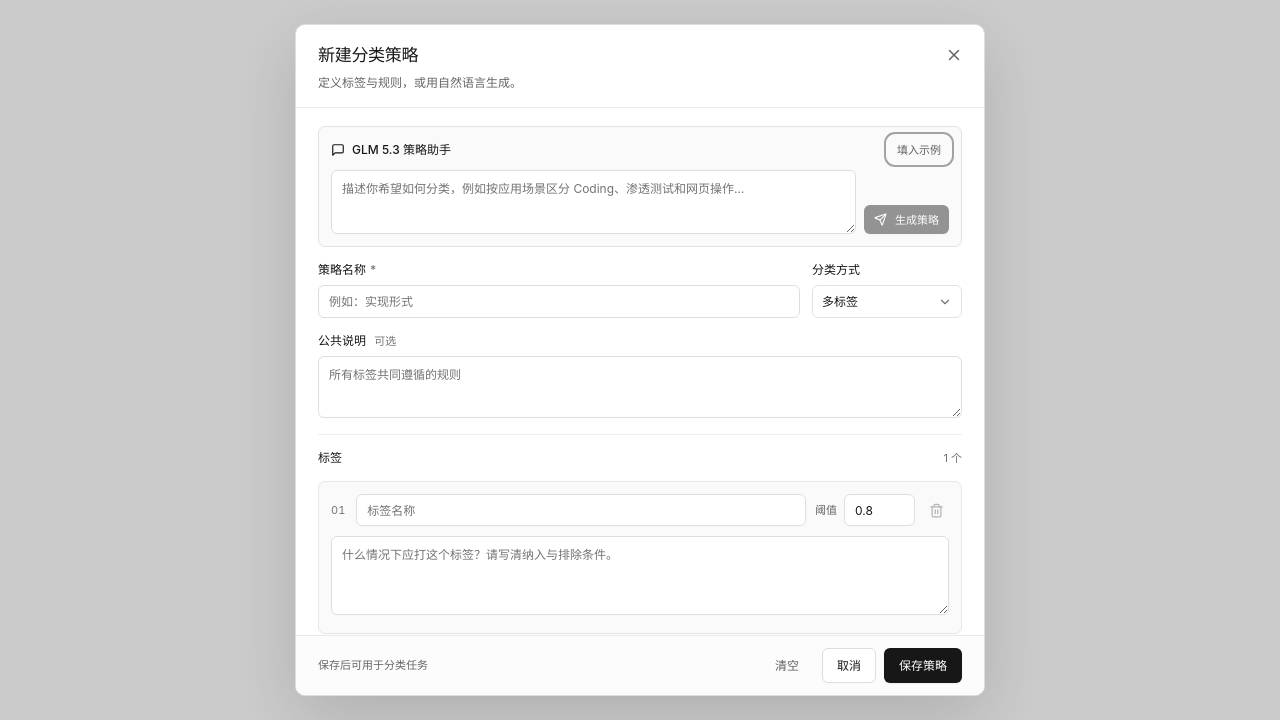
策略编辑 › 清空后忽略尚未返回的生成内容，失败也不覆盖已有草稿
Step 1. Type "生成用途分类" into the text box named "自然语言策略需求" → coordinates (594, 202), box [331,170,856,234]
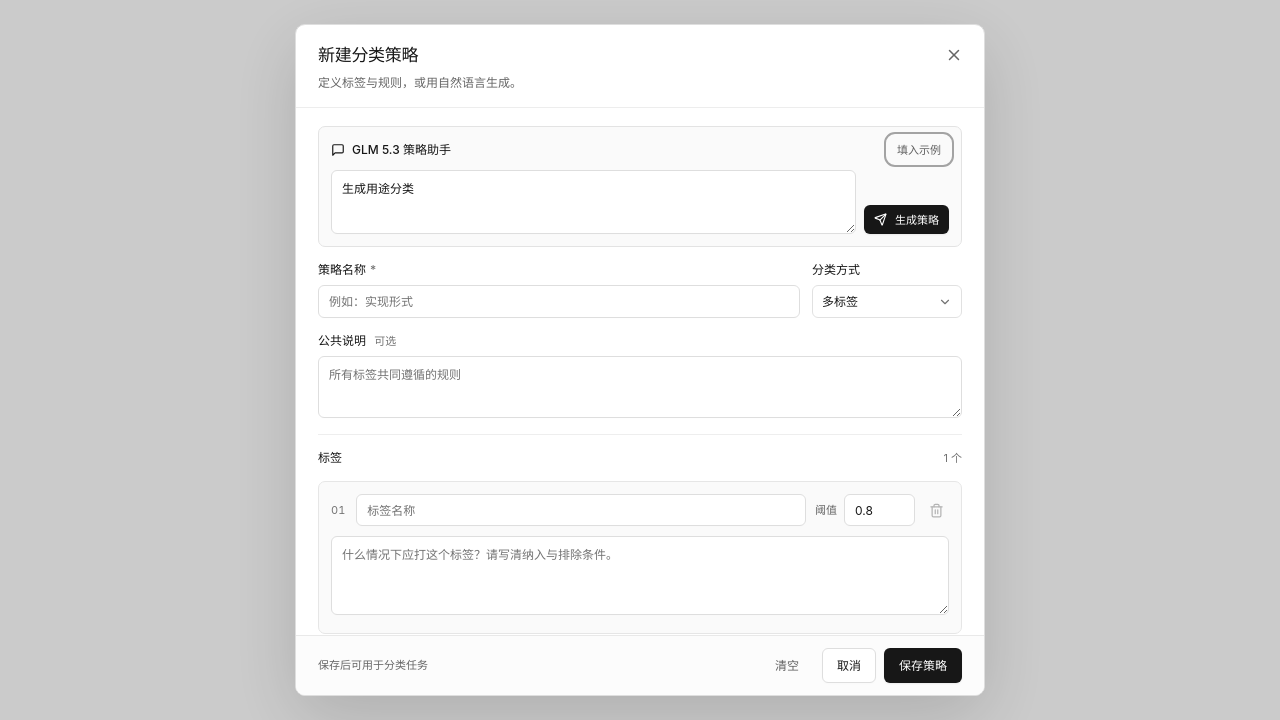
Step 2. Click the button "生成策略" → coordinates (906, 220), box [864,205,949,234]
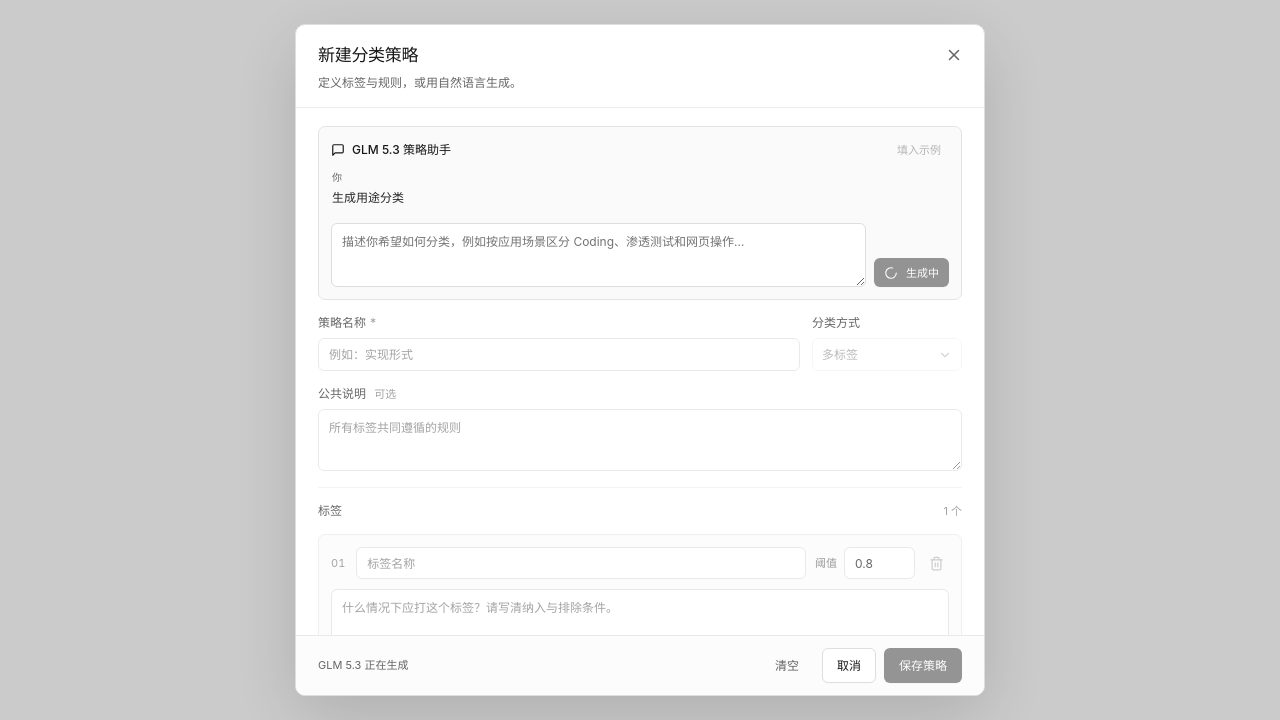
Step 3. Click the button "清空" → coordinates (787, 666), box [760,648,814,683]
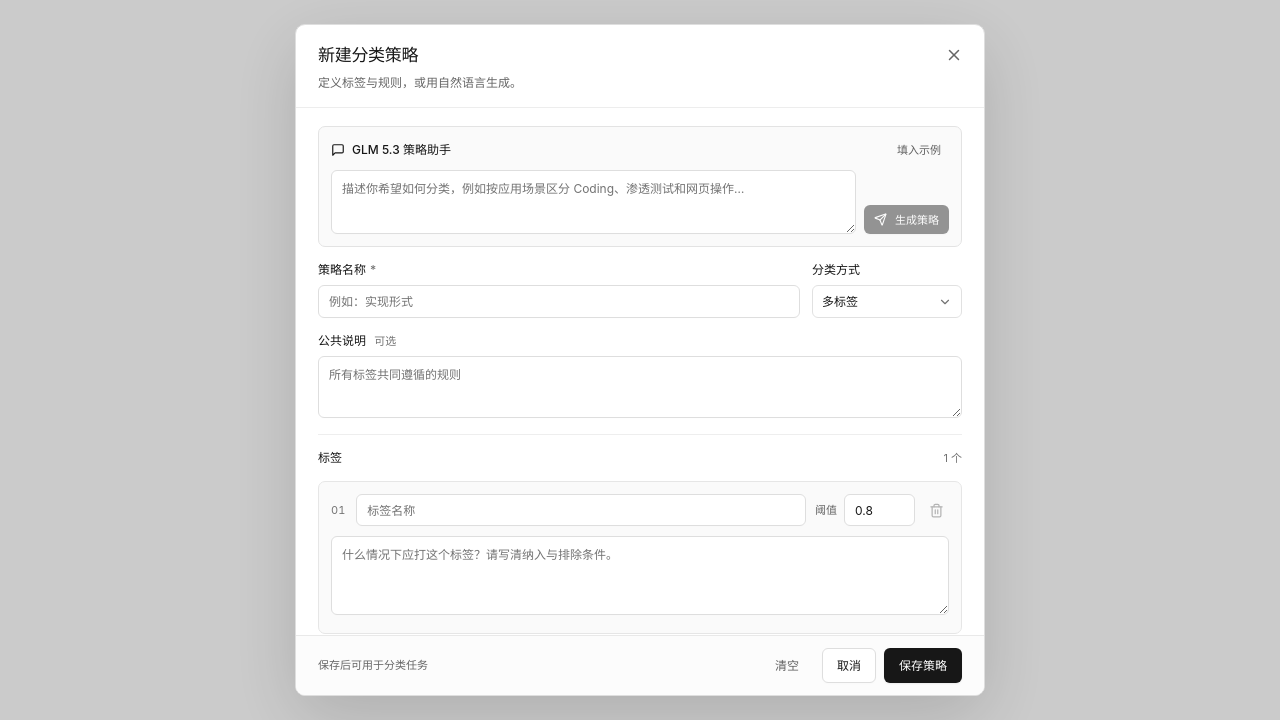
Step 4. Type "保留当前草稿" into the field labelled "策略名称*" → coordinates (559, 302), box [318,285,800,318]
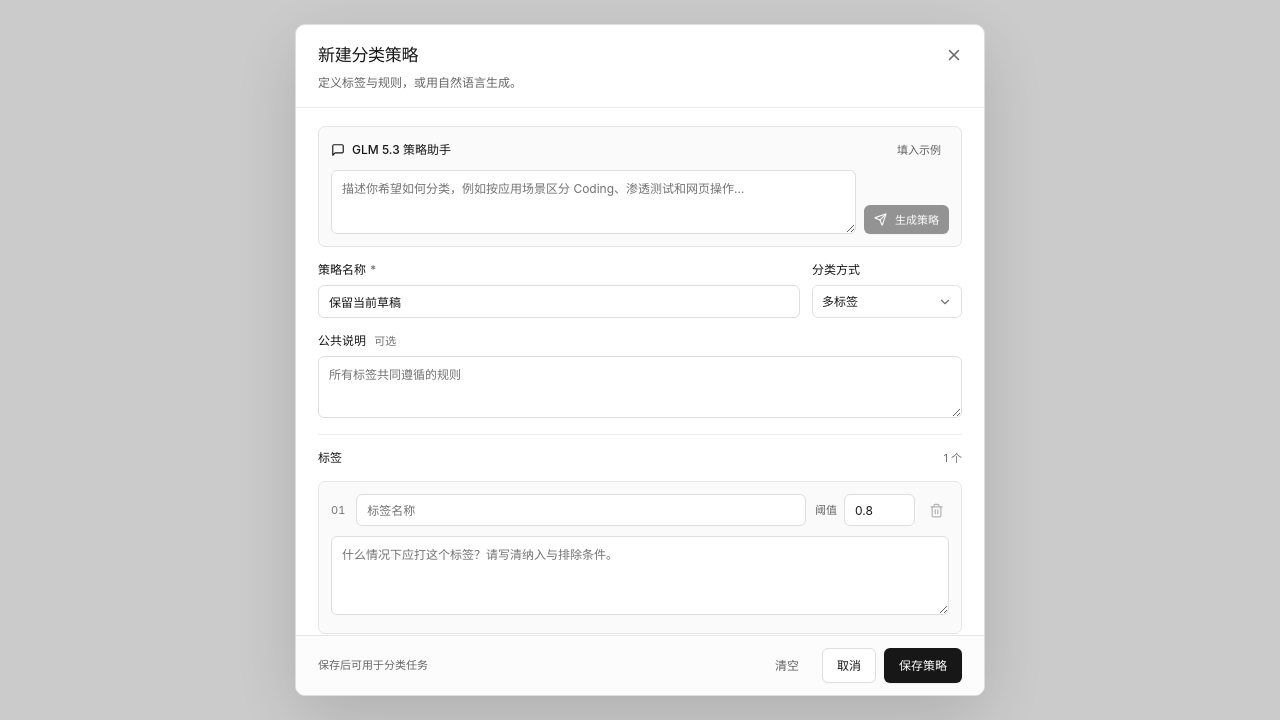
Step 5. Type "生成用途分类" into the text box named "自然语言策略需求" → coordinates (594, 202), box [331,170,856,234]
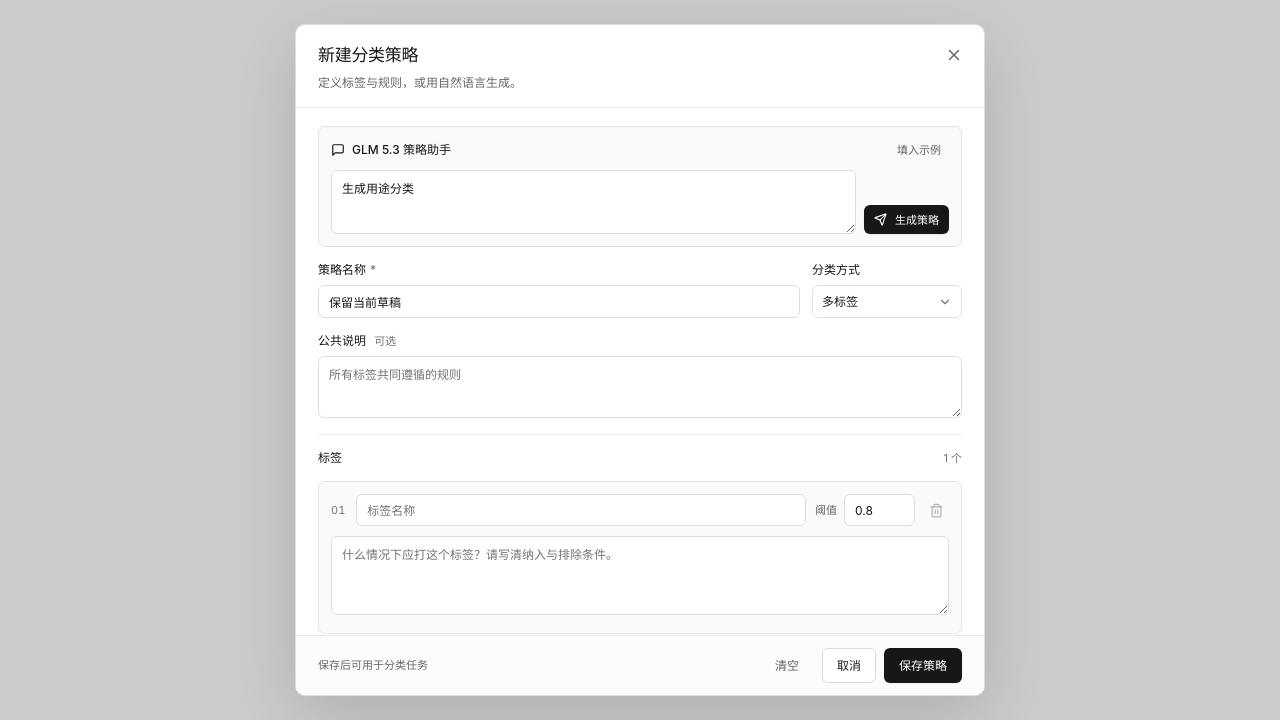
Step 6. Click the button "生成策略" → coordinates (906, 220), box [864,205,949,234]
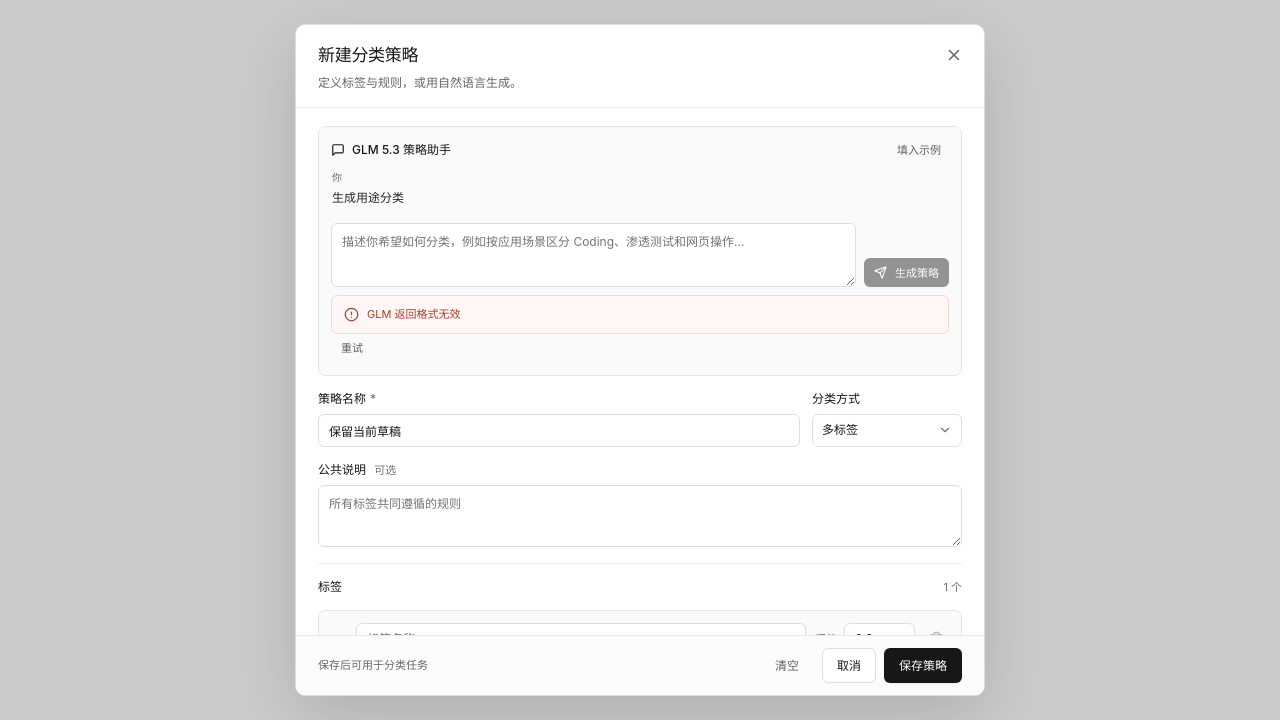
Result: the text "GLM 返回格式无效" is shown at [331,296,949,334]
